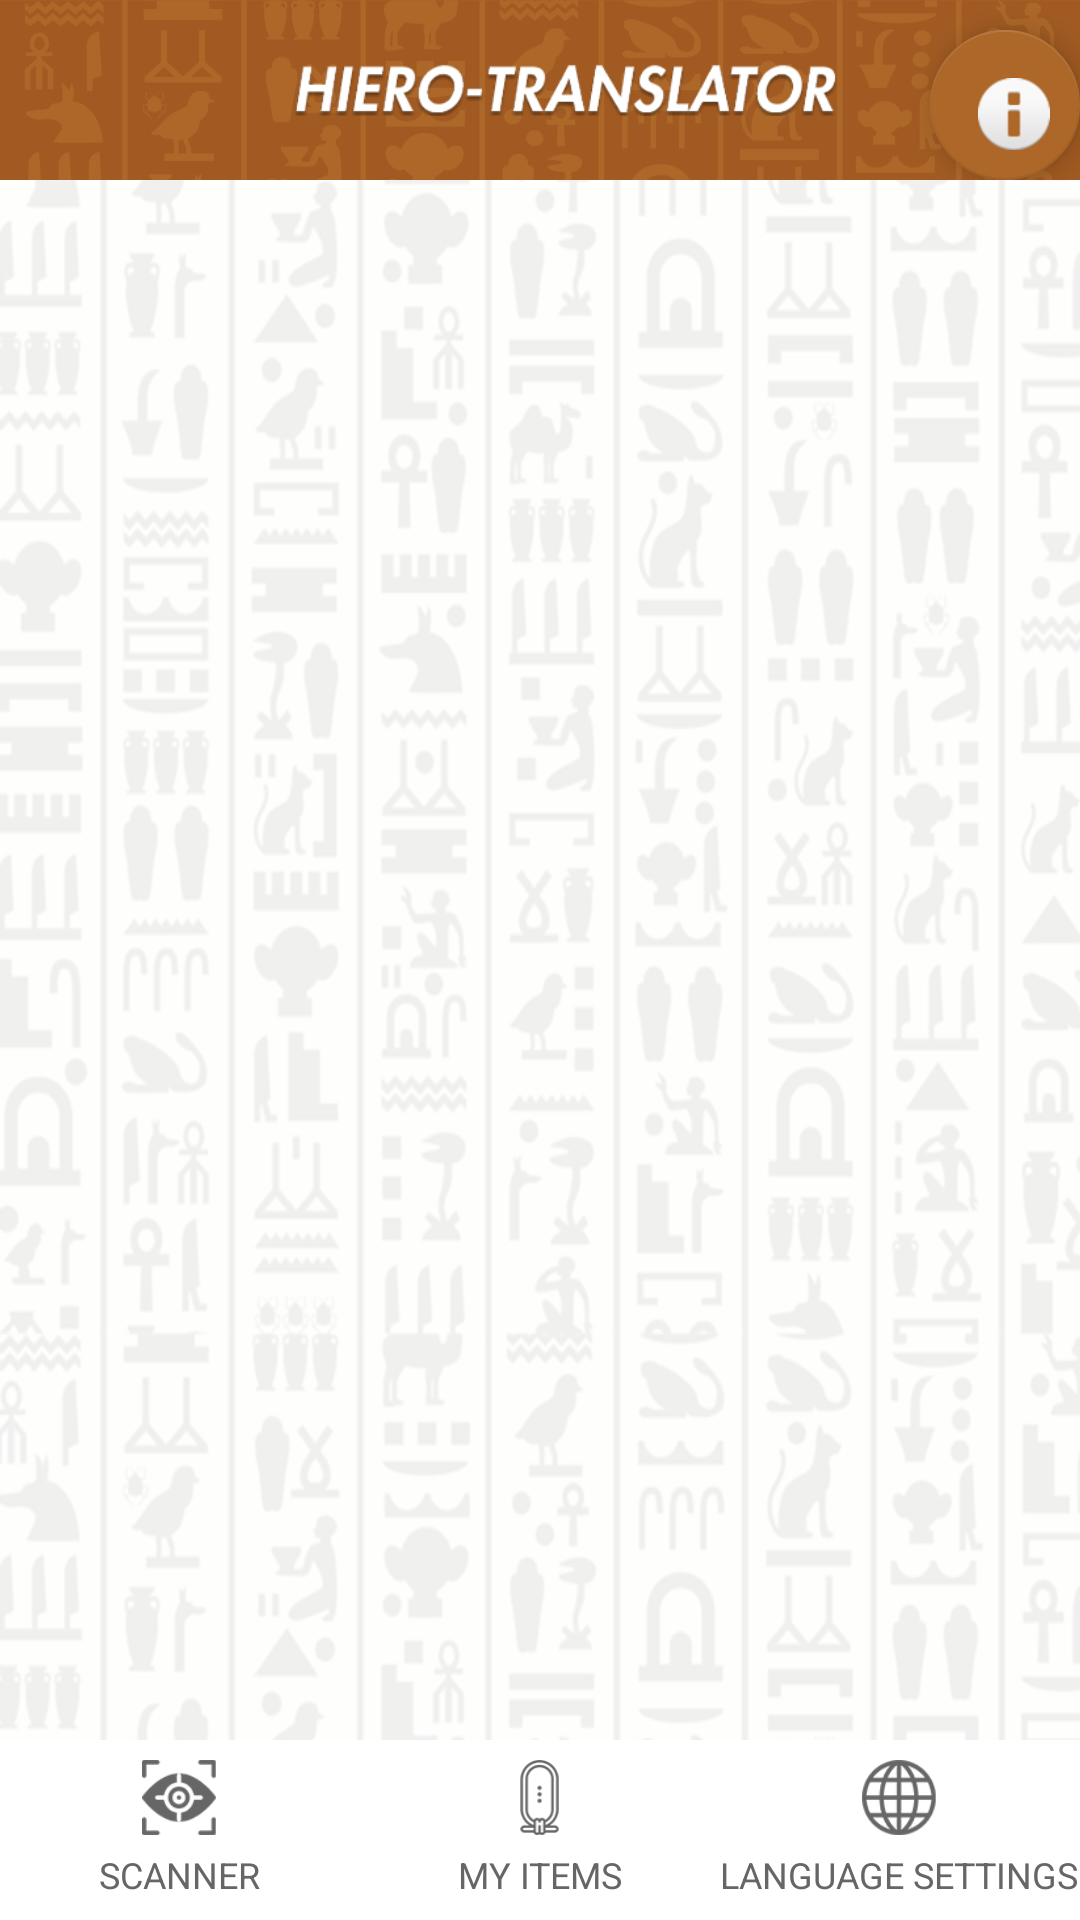

Named icons in this screenshot (1080 x 1920) and their bounding boxes, (x1, y1, x2, y2):
info: (930, 30, 1080, 180)
